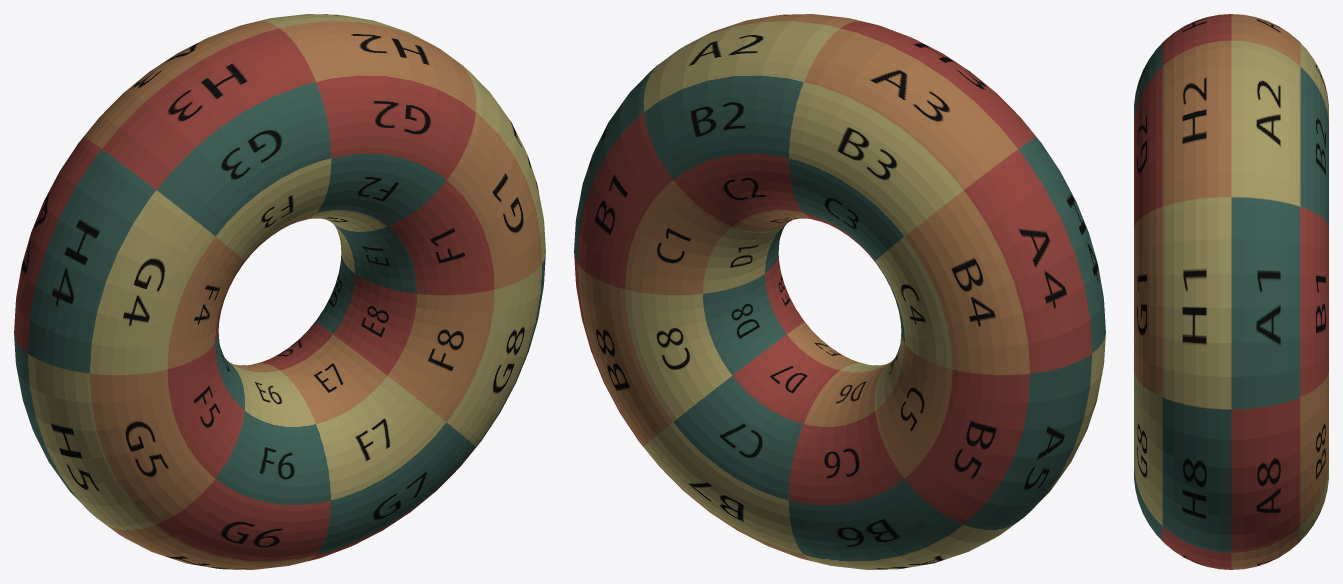
Rendered from texture_torus_R9_r25.glb.
The picture shows the model from 3 angles, left to right: view 1: azimuth 30°, elevation 25°; view 2: azimuth 150°, elevation 25°; view 3: azimuth 270°, elevation 25°; orthographic projection. The views are drawn at different scales.
Visible parts, largest first — view 1: world; view 2: world; view 3: world.
Boxes of the visible parts, box(x1,y1,x2,y2) form: world: box(14, 14, 545, 569); world: box(574, 14, 1105, 569); world: box(1134, 14, 1328, 569).
Size of the model in its own units: 24.67 by 24.62 by 8.65.
1 material, 1 textured.
